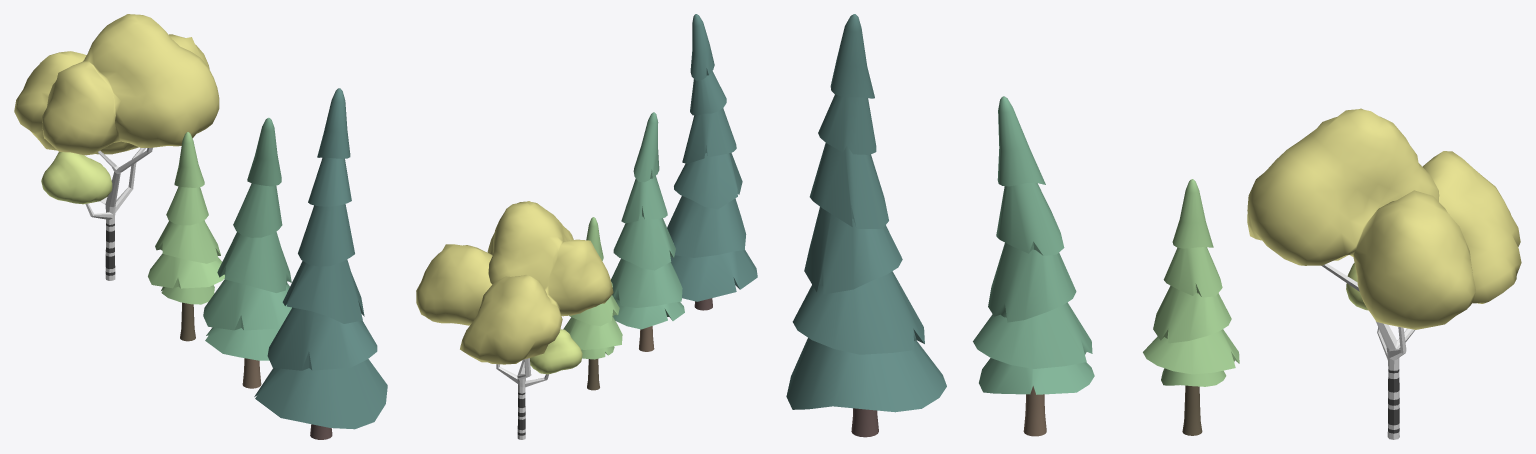
File: trees.fbx
3 renders of one model, left to right at view 1: azimuth 30°, elevation 25°; view 2: azimuth 150°, elevation 25°; view 3: azimuth 270°, elevation 25°, orthographic. The views are drawn at different scales.
Visible parts, largest first — view 1: BirchTree, PineTree03, PineTree02, PineTree01; view 2: BirchTree, PineTree03, PineTree02, PineTree01; view 3: BirchTree, PineTree03, PineTree02, PineTree01.
Part boxes in pixels (x1,y1,x2,y2): BirchTree: (14, 14, 219, 280); PineTree03: (254, 88, 387, 439); PineTree02: (203, 117, 291, 388); PineTree01: (148, 132, 224, 341); BirchTree: (416, 201, 613, 439); PineTree03: (667, 14, 757, 310); PineTree02: (611, 112, 684, 351); PineTree01: (563, 217, 622, 390); BirchTree: (1247, 108, 1521, 439); PineTree03: (786, 14, 946, 437); PineTree02: (973, 96, 1094, 436); PineTree01: (1143, 179, 1239, 435).
Bounding box in the file's own units: 3522 × 1288 × 2264.
